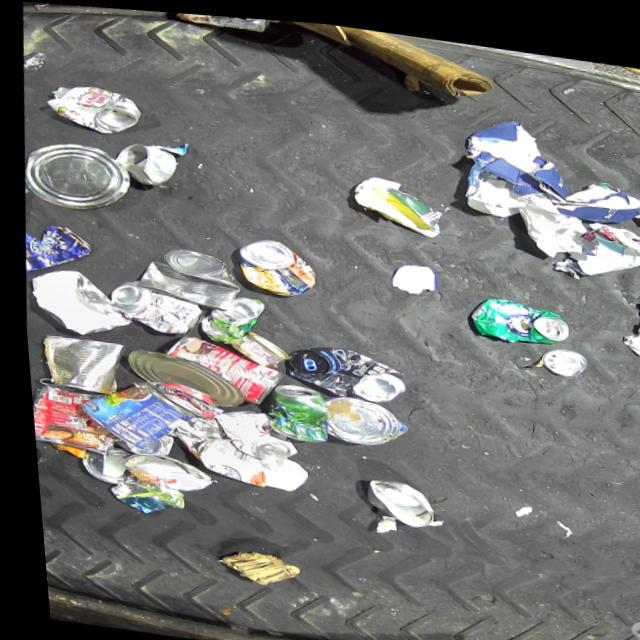can: (65, 368, 192, 453), (16, 134, 132, 216), (153, 329, 279, 404), (278, 336, 402, 402), (126, 240, 239, 310), (117, 346, 238, 406), (24, 382, 107, 455), (40, 78, 142, 137), (30, 331, 122, 396), (101, 276, 199, 335), (462, 286, 567, 341), (229, 232, 315, 296), (203, 401, 292, 460), (315, 388, 403, 446), (17, 220, 92, 280), (109, 448, 206, 491), (257, 376, 324, 438), (356, 471, 432, 524), (191, 288, 262, 344), (107, 137, 175, 187), (222, 324, 283, 366), (70, 441, 124, 484), (174, 10, 270, 31), (105, 426, 167, 456), (534, 338, 583, 371)
